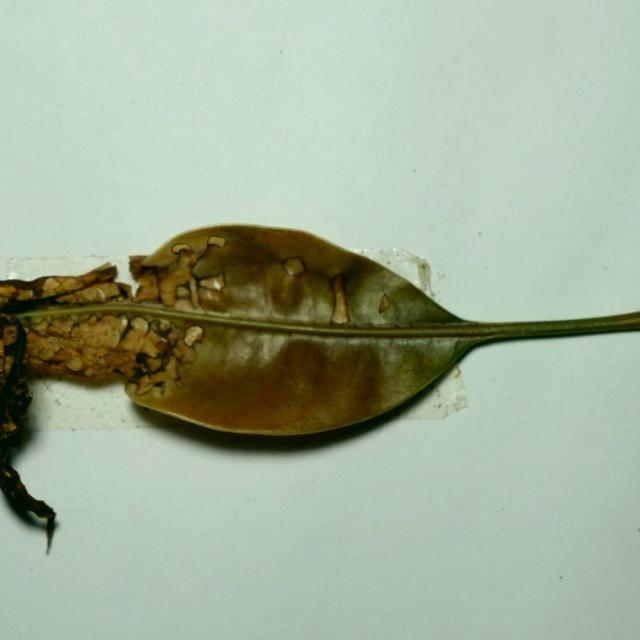Anthracnose: (75, 317, 124, 354), (139, 241, 189, 269), (79, 281, 124, 304), (120, 324, 152, 355), (132, 269, 160, 303), (135, 330, 165, 358), (197, 283, 227, 310), (30, 336, 62, 359), (98, 316, 125, 338), (159, 279, 178, 307), (128, 376, 155, 395), (175, 343, 197, 366), (282, 259, 305, 279), (202, 271, 227, 289), (183, 326, 203, 347), (331, 301, 348, 324), (130, 316, 149, 333), (42, 278, 62, 294), (189, 278, 199, 308), (378, 293, 391, 314), (56, 320, 75, 334), (172, 243, 191, 255), (207, 236, 226, 247), (66, 358, 82, 371), (177, 286, 191, 299), (95, 287, 105, 302), (158, 382, 167, 396)
Lemon: (0, 226, 639, 440)
